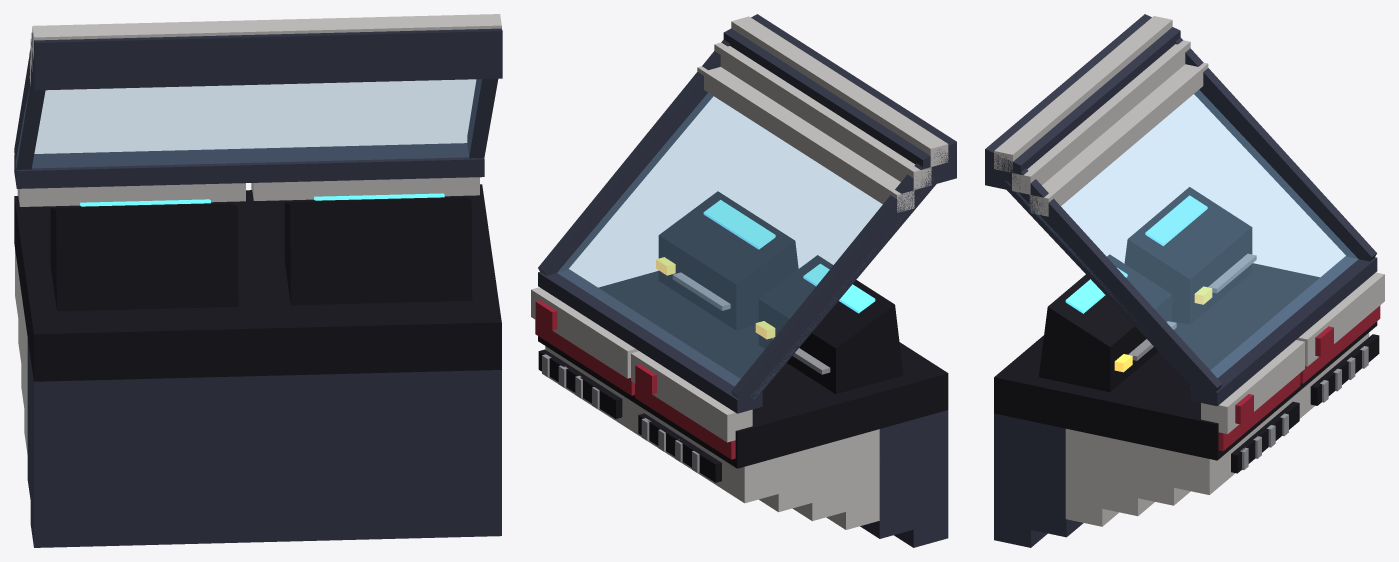
Rendered from canopy.slope2.deck.glb.
The picture shows the model from 3 angles, left to right: view 1: azimuth 30°, elevation 25°; view 2: azimuth 150°, elevation 25°; view 3: azimuth 270°, elevation 25°; orthographic projection. The views are drawn at different scales.
Visible parts, largest first — view 1: canopy.slope2.deck; view 2: canopy.slope2.deck; view 3: canopy.slope2.deck.
Boxes of the visible parts, bbox=[...] form: canopy.slope2.deck: bbox=[14, 14, 502, 547]; canopy.slope2.deck: bbox=[531, 14, 956, 547]; canopy.slope2.deck: bbox=[985, 14, 1384, 547].
Size of the model in its own units: 2.74 by 2.69 by 2.5.
